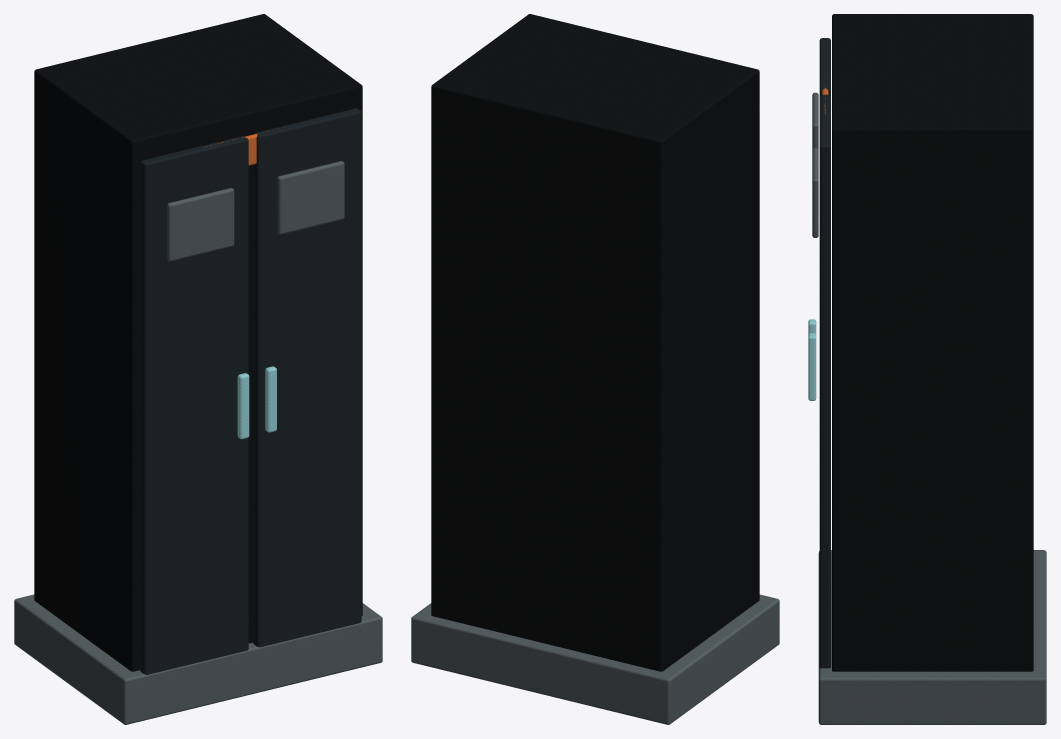
File: UtilityLocker.glb
3 renders of one model, left to right at view 1: azimuth 30°, elevation 25°; view 2: azimuth 150°, elevation 25°; view 3: azimuth 270°, elevation 25°, orthographic. The views are drawn at different scales.
Visible parts, largest first — view 1: UtilityLocker_Mesh; view 2: UtilityLocker_Mesh; view 3: UtilityLocker_Mesh.
Boxes of the visible parts, bbox=[...] form: UtilityLocker_Mesh: bbox=[14, 14, 382, 724]; UtilityLocker_Mesh: bbox=[411, 14, 779, 724]; UtilityLocker_Mesh: bbox=[808, 14, 1046, 724].
Size of the model in its own units: 0.94 by 2 by 0.7325.
5 materials, 5 textured.
